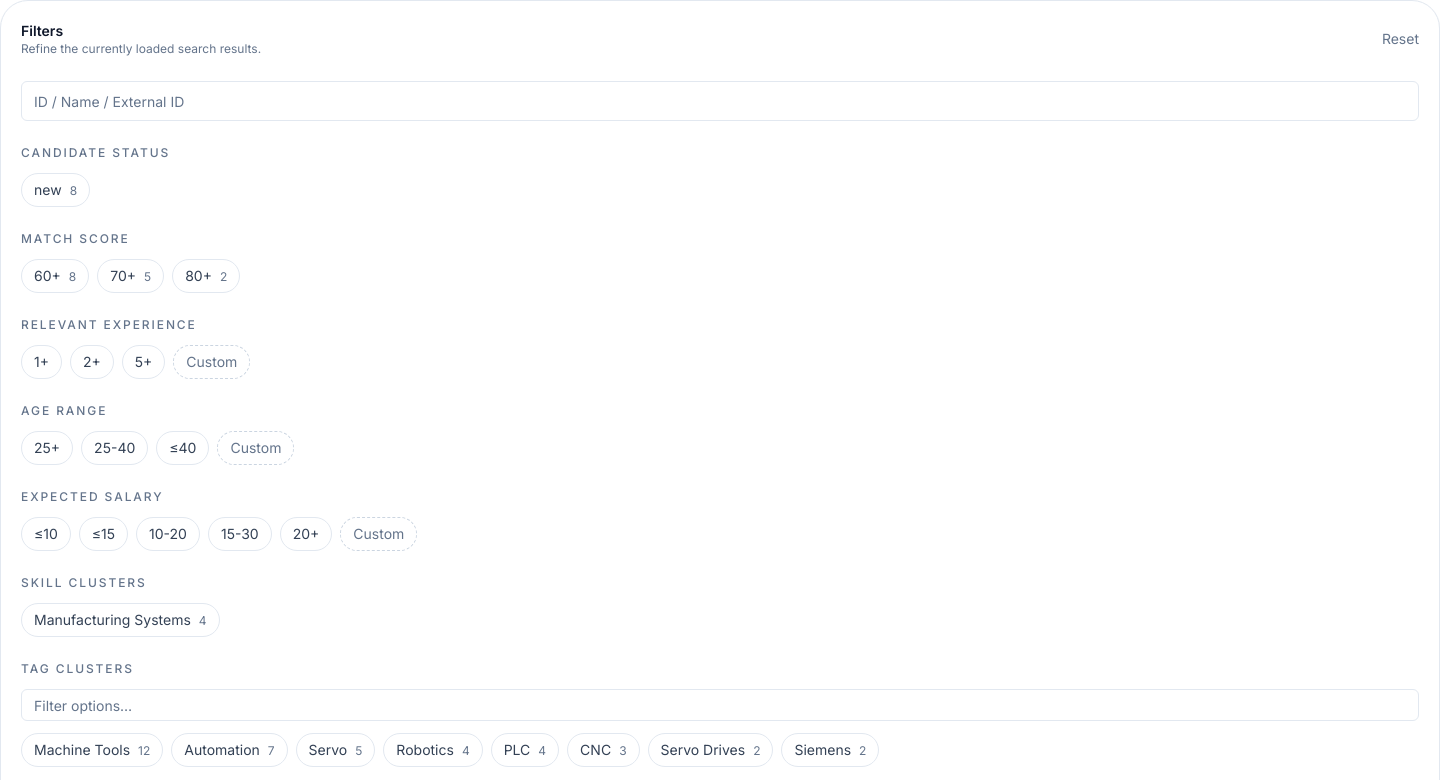
Test: filterable facet groups (R1) › clears the tag filter with the clear button
Step 1. Type "cnc" into the field with placeholder "Filter options…" → (720,705), box [21, 689, 1419, 721]
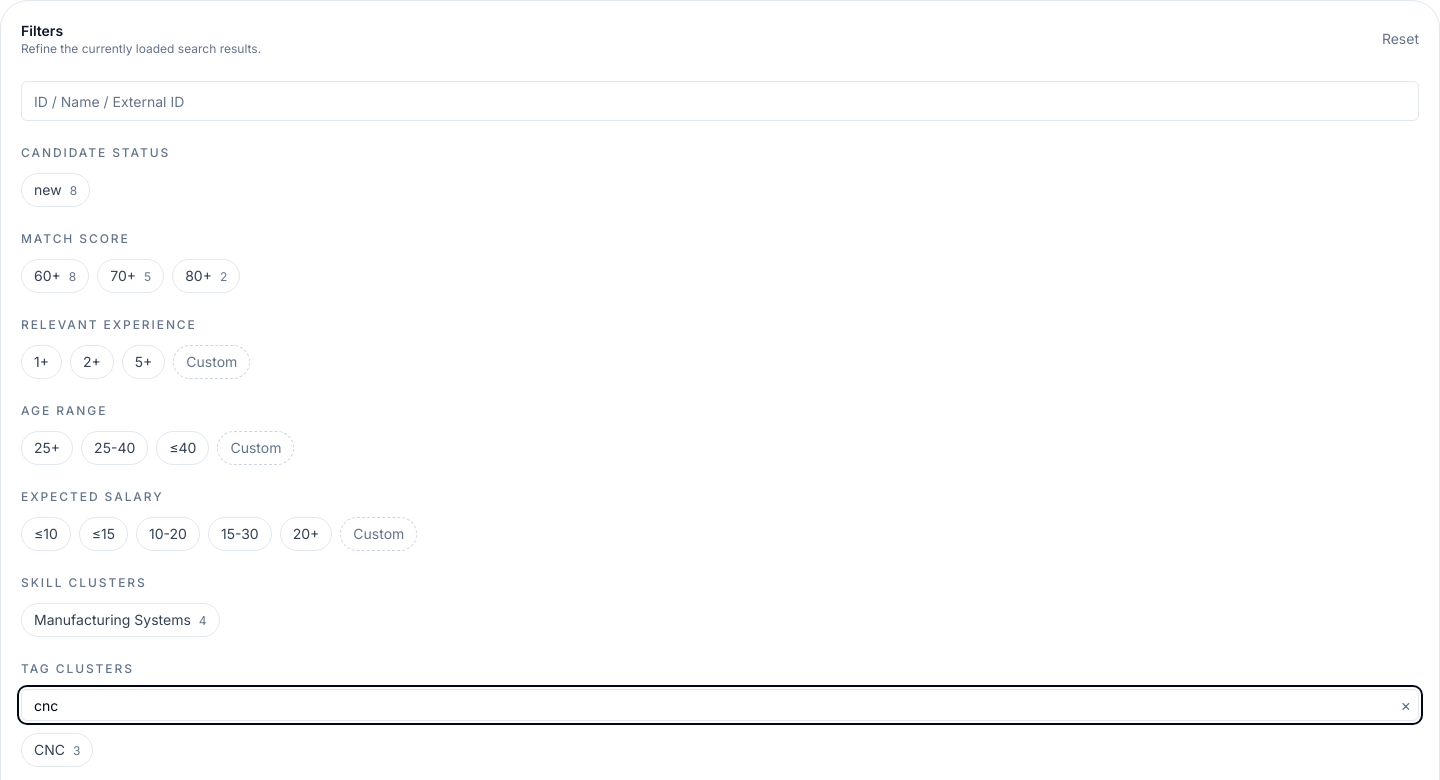
Check: the button "Machine Tools" is gone
Step 2. Click the button named "Clear" → (1406,705), box [1400, 693, 1411, 717]
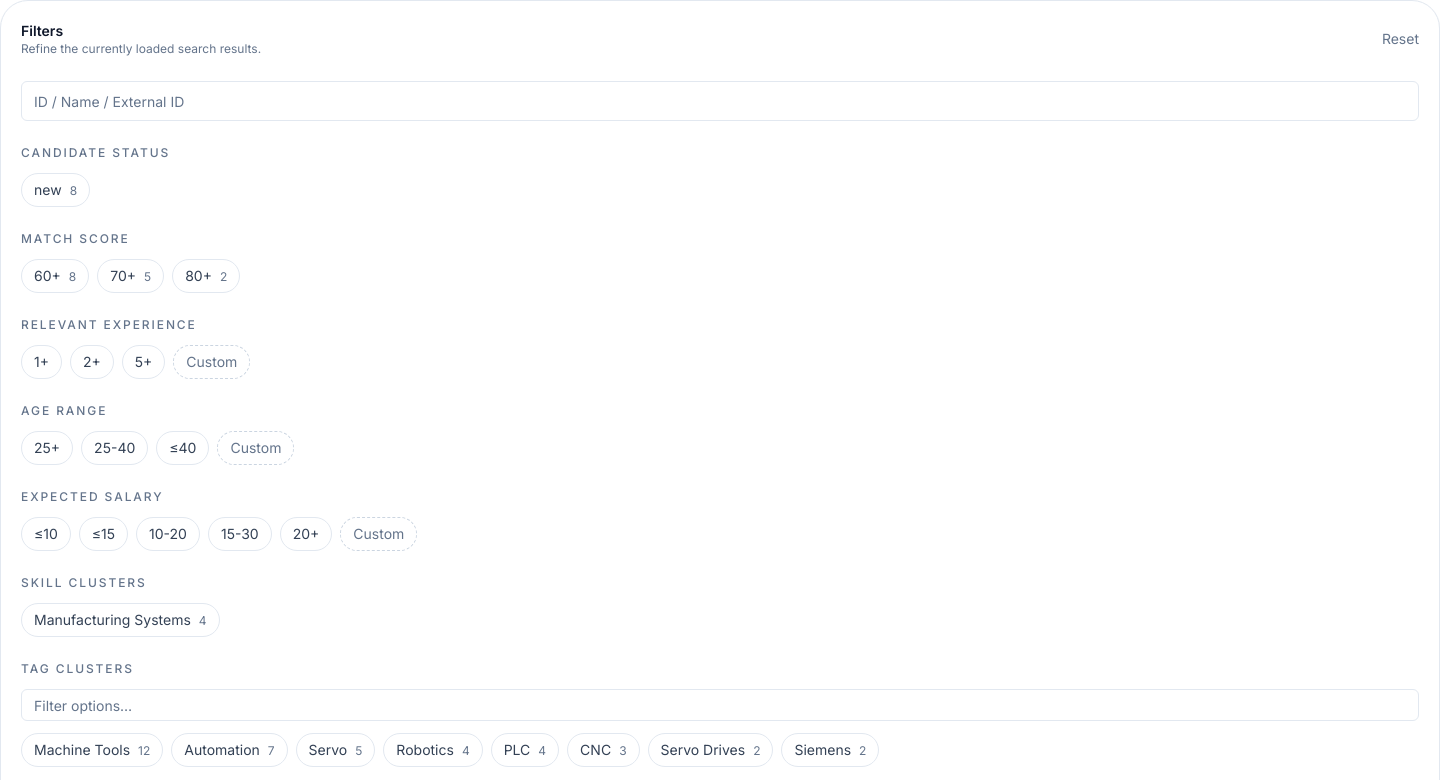
Check: the button "Machine Tools12" is shown, box [21, 733, 163, 767]
Check: the field with placeholder "Filter options…" is empty, box [21, 689, 1419, 721]
